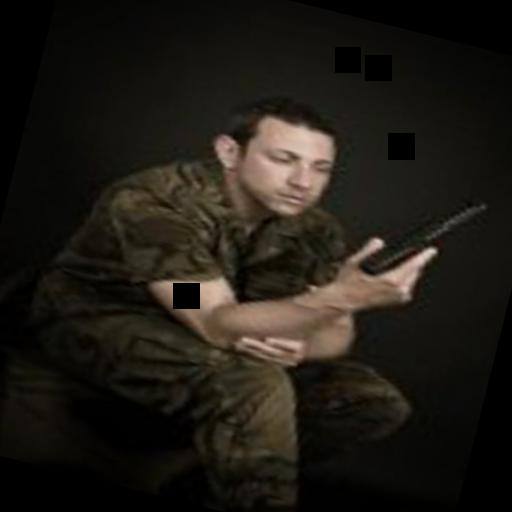Handgun: (347, 168, 486, 296)
